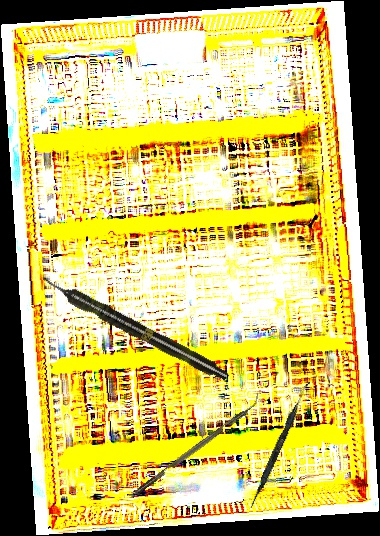Chopper: (132, 392, 266, 493)
Handpiece: (41, 272, 231, 385)
Spatula Surgical: (248, 379, 311, 511)
